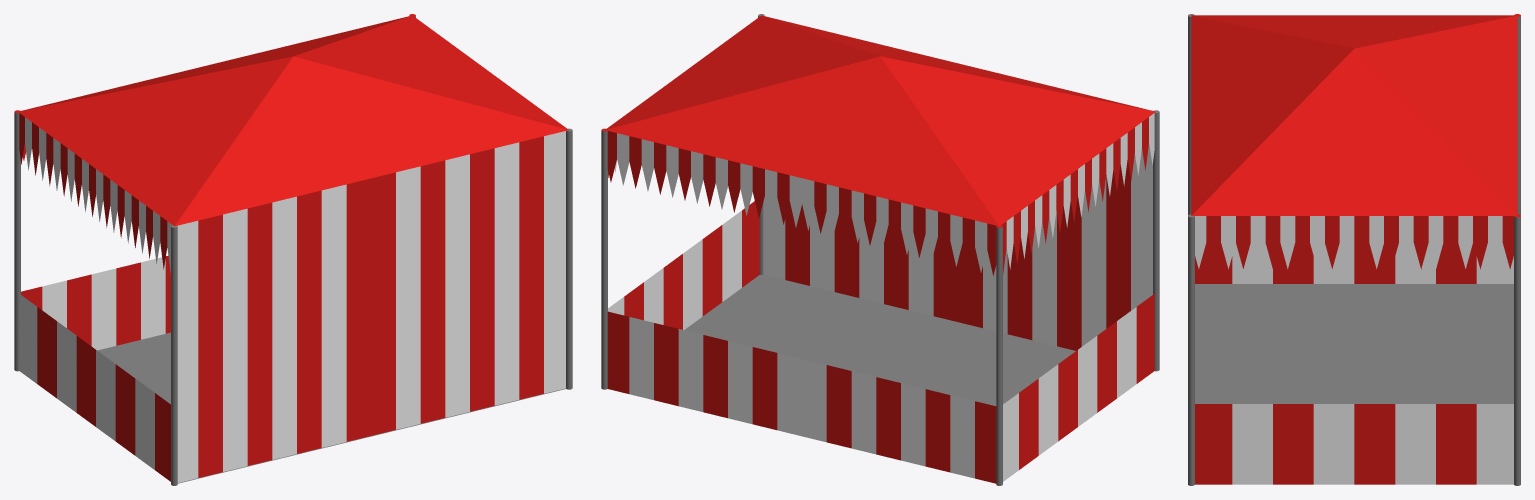
The model's file is ActualBooth.glb.
The picture shows the model from 3 angles, left to right: view 1: azimuth 30°, elevation 25°; view 2: azimuth 150°, elevation 25°; view 3: azimuth 270°, elevation 25°; orthographic projection. The views are drawn at different scales.
Visible parts, largest first — view 1: Plane.002; view 2: Plane.002; view 3: Plane.002.
Part boxes in pixels (x1,y1,x2,y2): Plane.002: [14, 14, 572, 485]; Plane.002: [601, 14, 1159, 485]; Plane.002: [1188, 14, 1520, 485].
Size of the model in its own units: 32.47 by 25 by 22.47.
